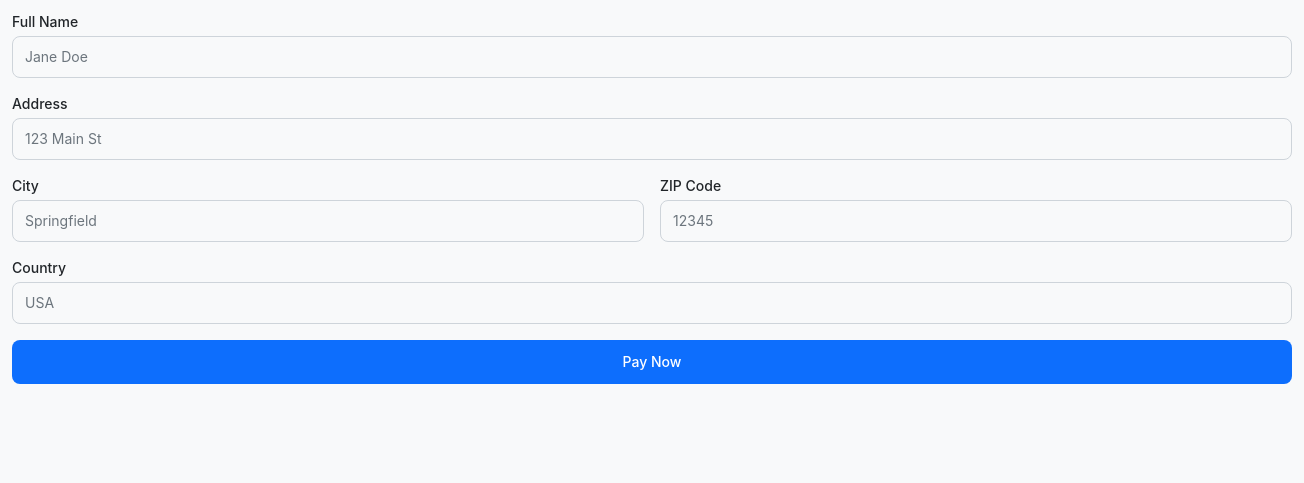
Test: CheckoutForm › displays error messages when submitting an empty form
Click the button "Pay Now" at (652, 362), box [12, 340, 1292, 384]
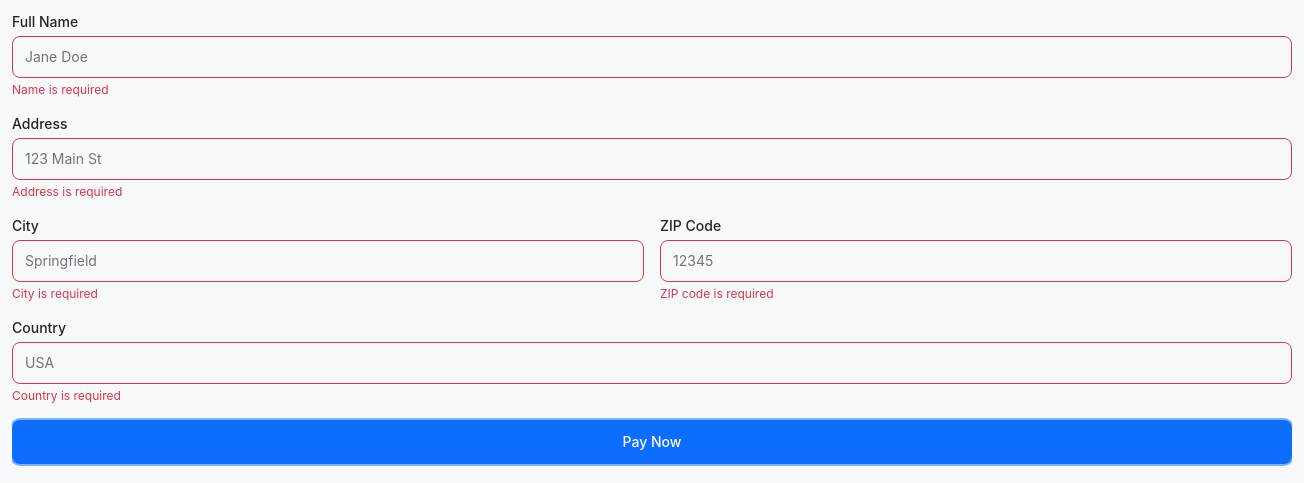
Check: the text "Name is required" is shown, box [12, 82, 109, 97]
Check: the text "Address is required" is shown, box [12, 184, 122, 199]
Check: the text "City is required" is shown, box [12, 286, 98, 301]
